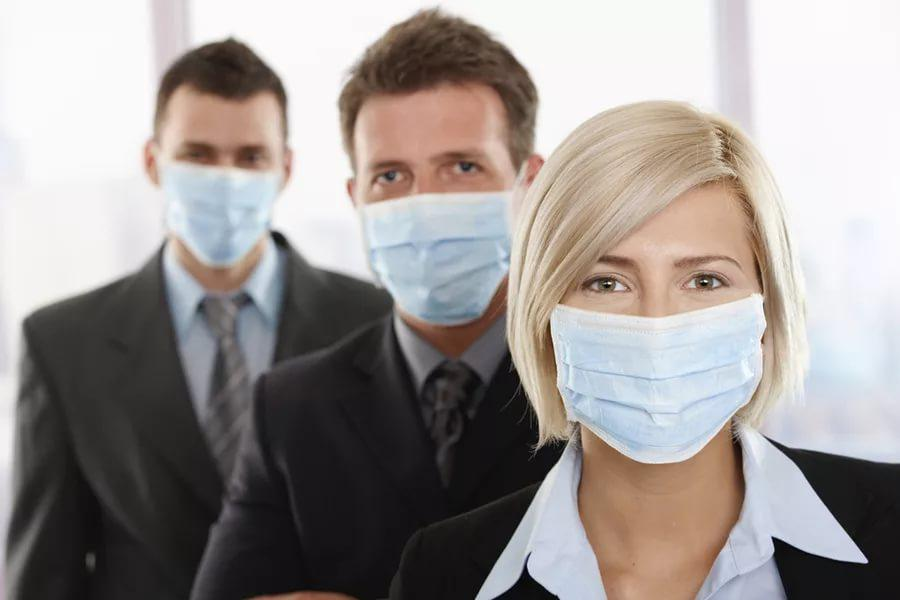mask: (548, 185, 772, 459), (354, 81, 520, 322), (166, 95, 285, 255)
